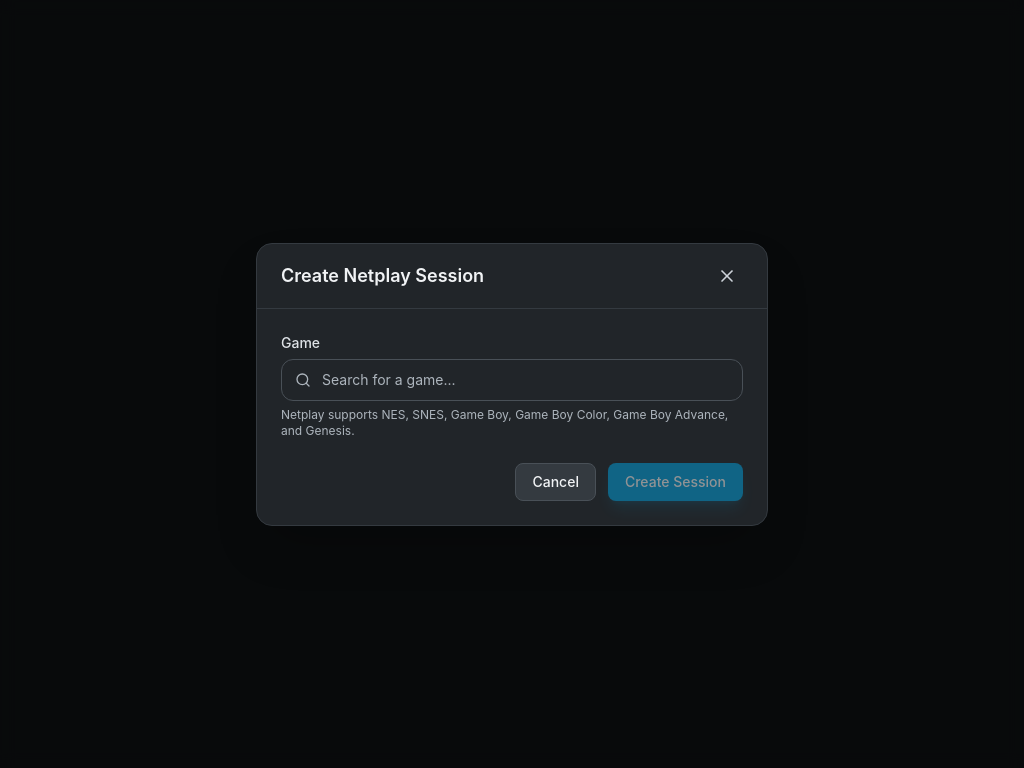
Test: NetplayCreateModal › selects a game when clicked
The image size is (1024, 768).
In the search field with placeholder "Search for a game...": {"x": 512, "y": 380} [281, 358, 743, 400], type "Mario"
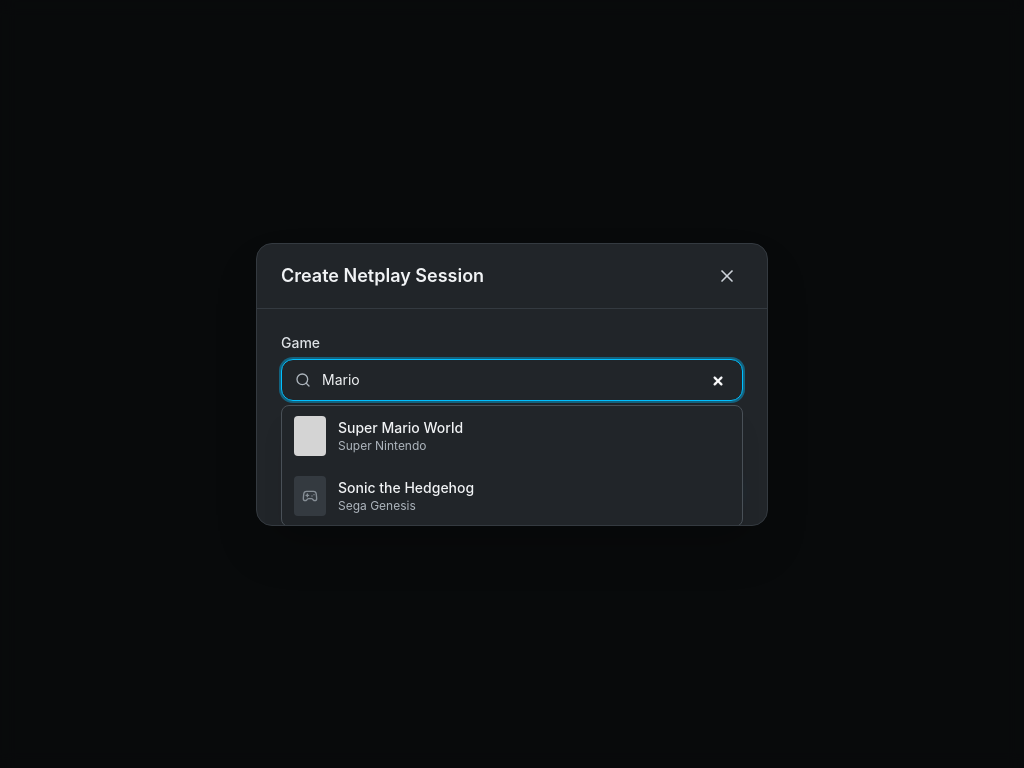
Click the text "Super Mario World": {"x": 401, "y": 428} [338, 418, 463, 438]
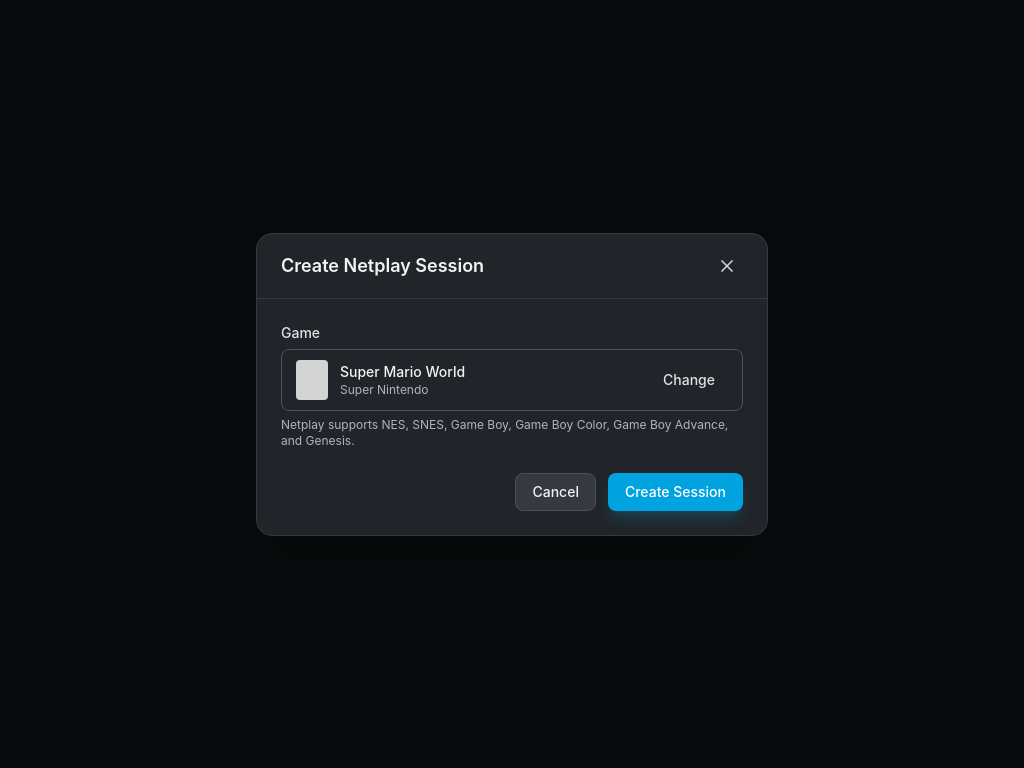
Result: the button "Change" is shown at [650, 362, 728, 396]
